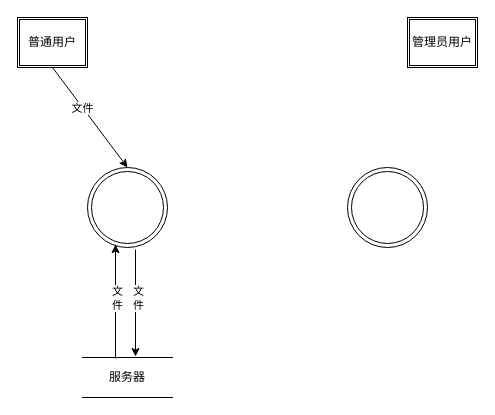
The diagram is 495 pixels wide and 415 high, and some of its shapes have lost their labels. Each missing label, with the centre of its shape:
"文件操作" belongs at (127,207).
"用户操作" belongs at (387,207).
